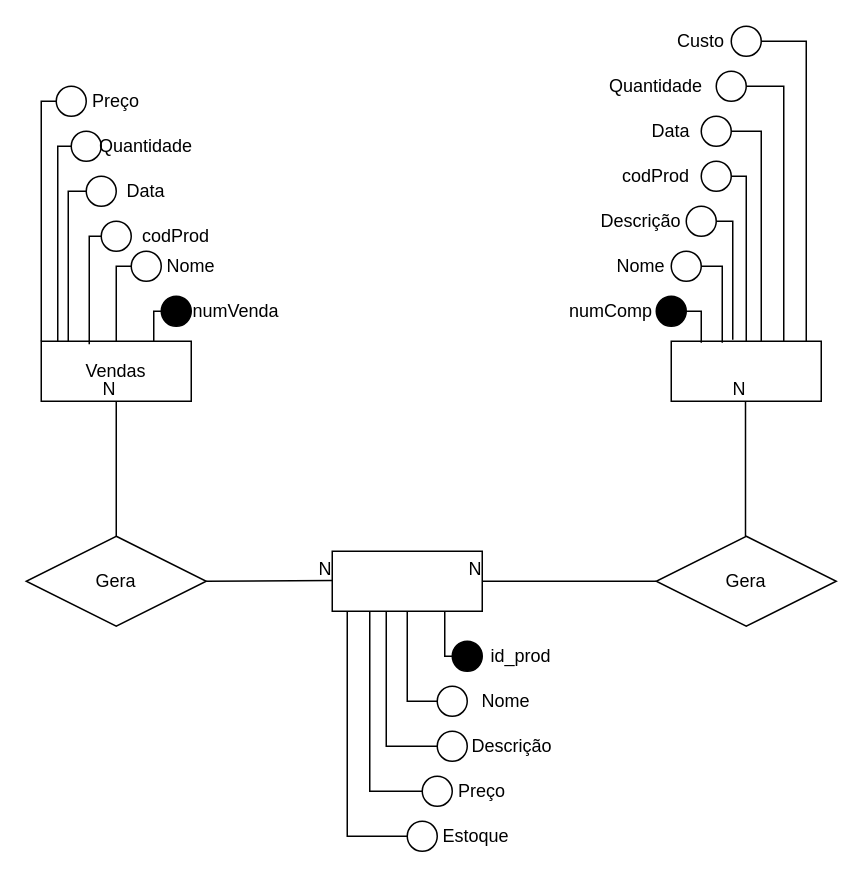
Image size: 863x878. Some labels were removed from this diagram. The box of each missing label's shape, as (x1, y1, x2, y2) in pixels:
Compras: (670, 340, 821, 401)
Produto: (331, 550, 482, 611)
